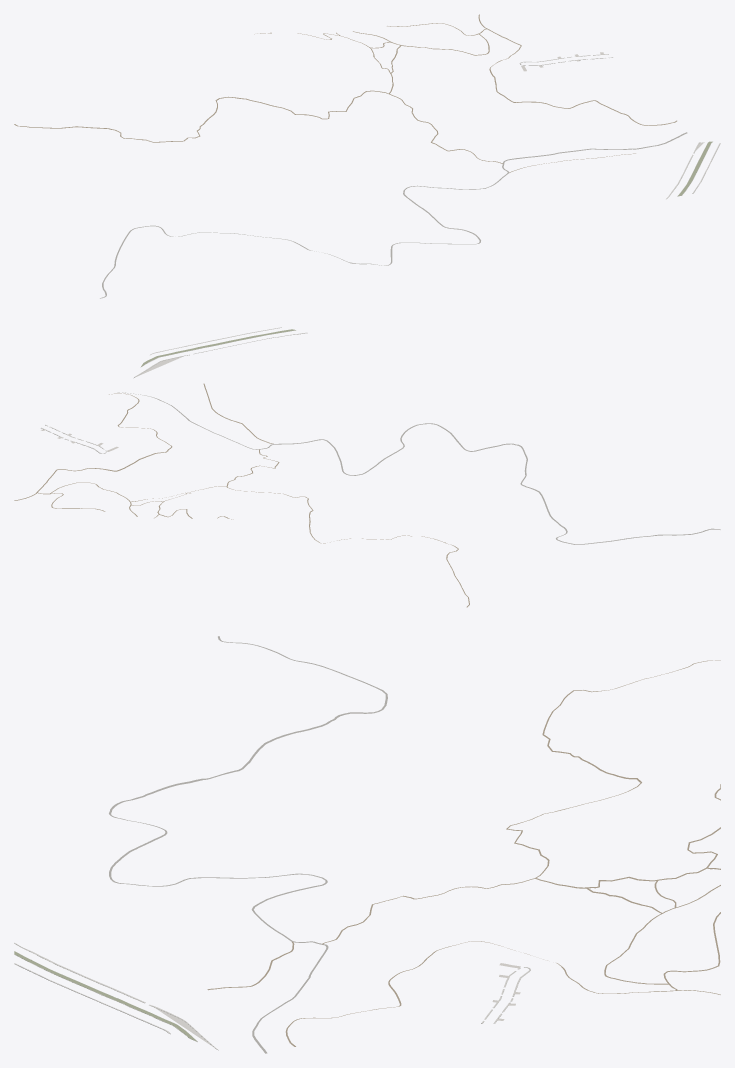
Rendered from ground_r5_c1.glb.
The picture shows the model from 3 angles, top to bottom: view 1: azimuth 30°, elevation 25°; view 2: azimuth 150°, elevation 25°; view 3: azimuth 270°, elevation 25°; orthographic projection. The views are drawn at different scales.
Parts seen in each view (by area): view 1: paths, sidewalks; view 2: paths, sidewalks; view 3: paths, sidewalks, medians.
Boxes of the visible parts, x1=… form: paths: x1=14, y1=14, x2=687, y2=298; sidewalks: x1=519, y1=54, x2=720, y2=199; paths: x1=14, y1=383, x2=720, y2=607; sidewalks: x1=41, y1=327, x2=307, y2=453; paths: x1=109, y1=636, x2=720, y2=1053; sidewalks: x1=14, y1=942, x2=530, y2=1050; medians: x1=14, y1=951, x2=197, y2=1041.
Bounding box in the file's own units: 1125 × 109 × 788.
